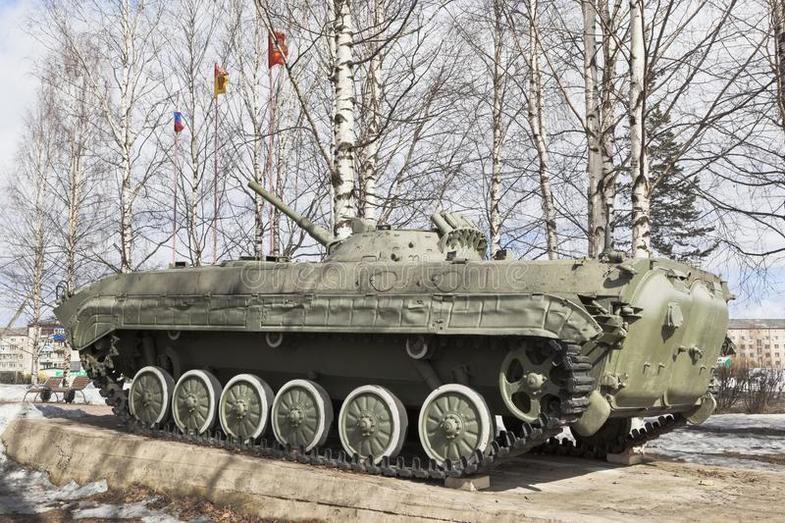bmp: (51, 213, 731, 480)
